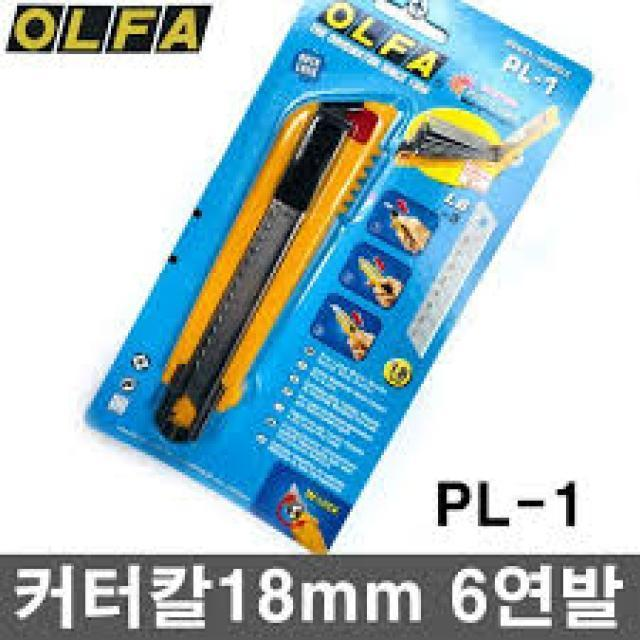cutter: (142, 84, 410, 459)
